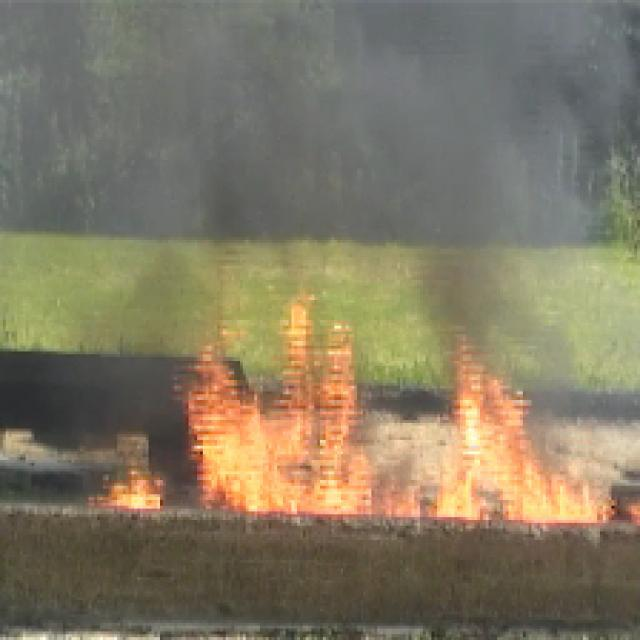Fire: (223, 31, 548, 203), (184, 371, 362, 504), (461, 403, 557, 521)
